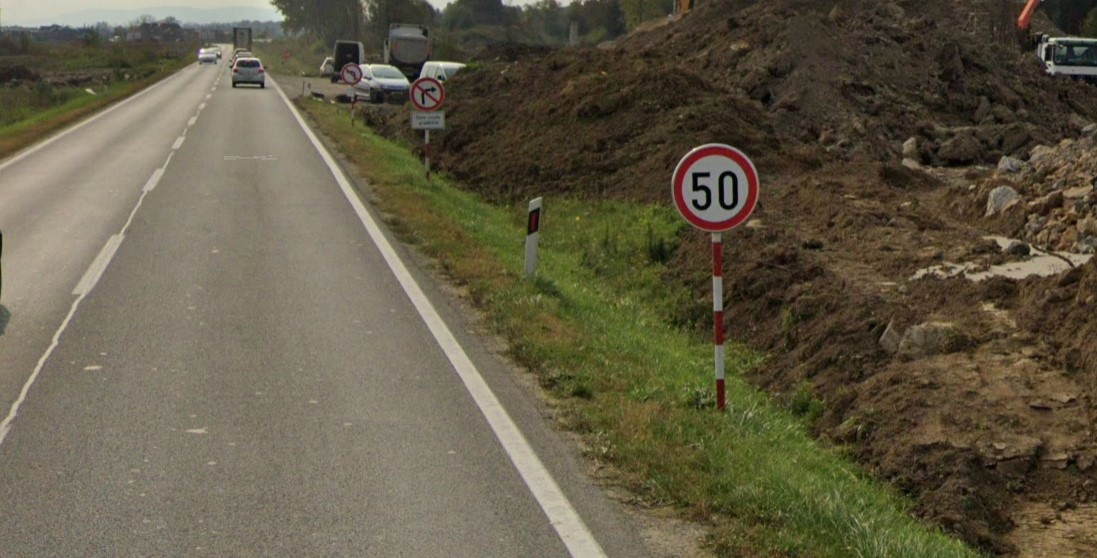Ograničenje brzine 50: (671, 143, 759, 233)
